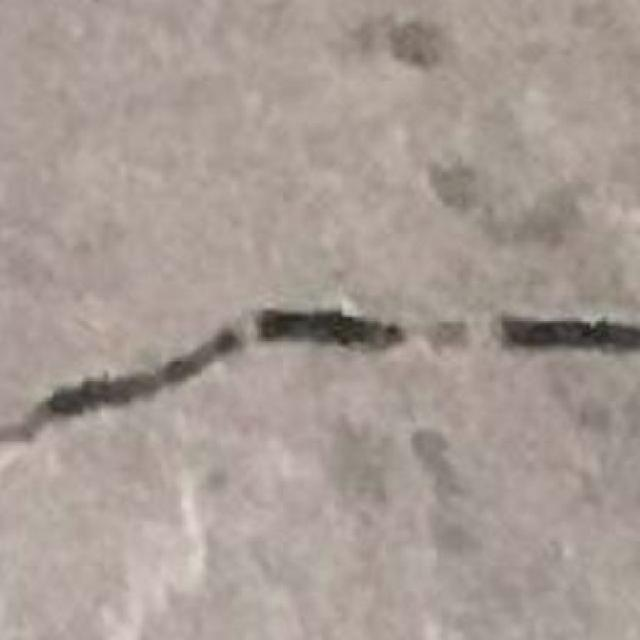SurfaceCrack: (12, 270, 640, 498)
